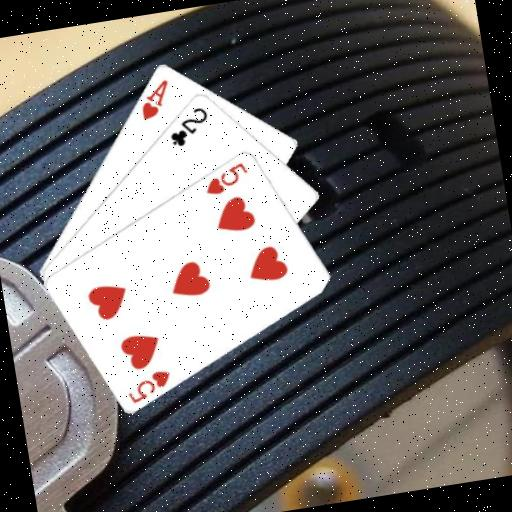2C: (163, 102, 214, 149)
5H: (121, 365, 175, 406), (199, 158, 252, 198)
AH: (133, 75, 174, 122)
